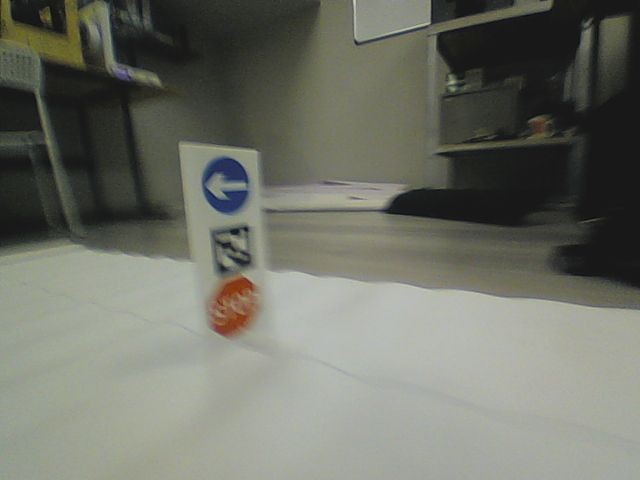Stop: (207, 277, 262, 337)
